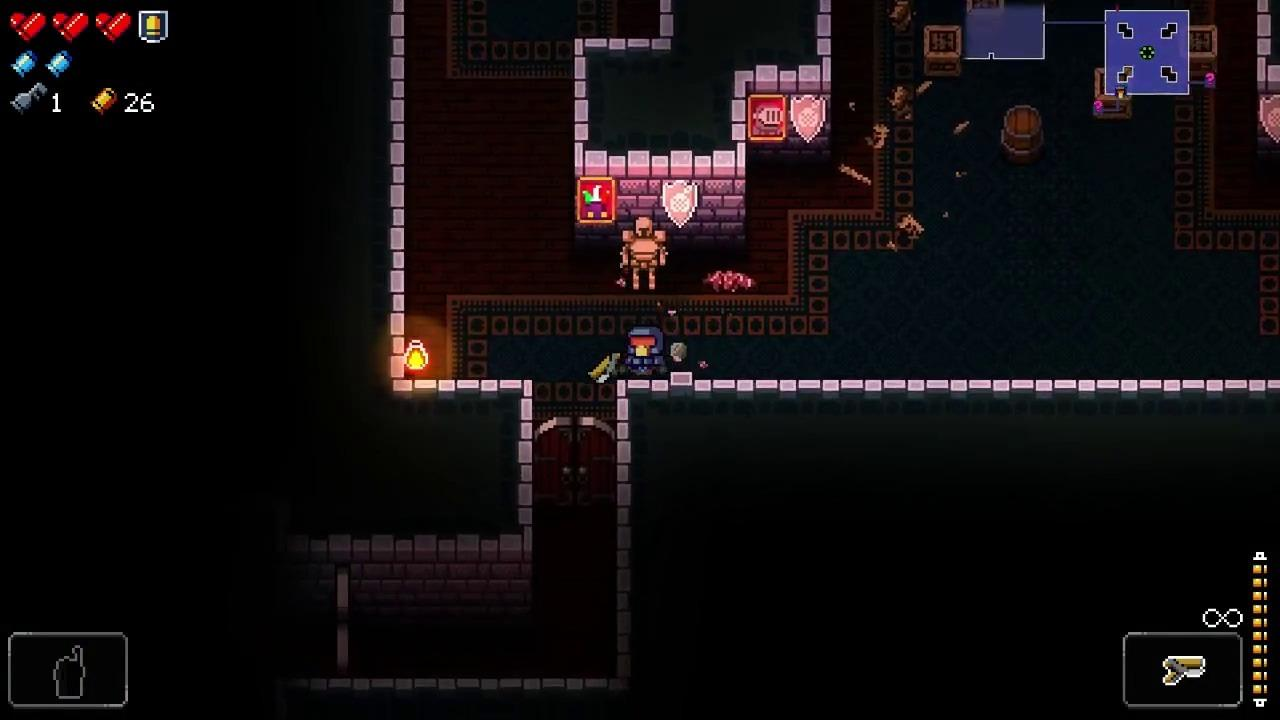player: (627, 327, 667, 375)
unlocked_door: (532, 416, 618, 510), (336, 563, 350, 679)
